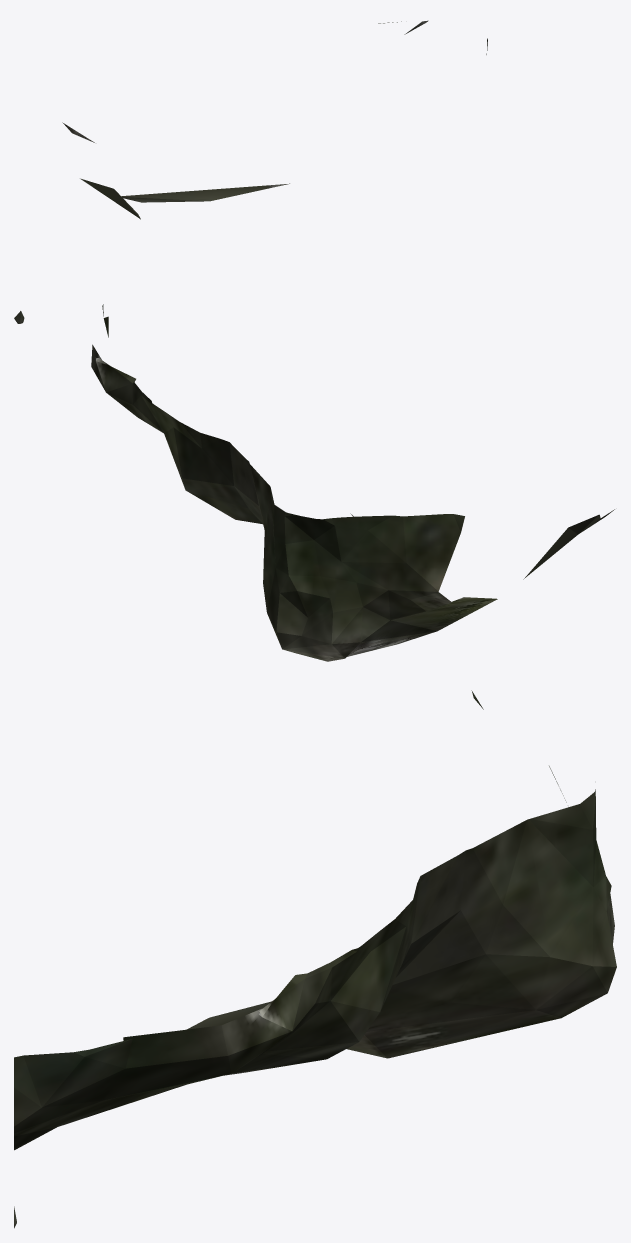
The picture shows the model from 3 angles, top to bottom: view 1: azimuth 30°, elevation 25°; view 2: azimuth 150°, elevation 25°; view 3: azimuth 270°, elevation 25°; orthographic projection. The views are drawn at different scales.
Size of the model in its own units: 1.48 by 0.4198 by 0.8488.
1 material, 1 textured.
